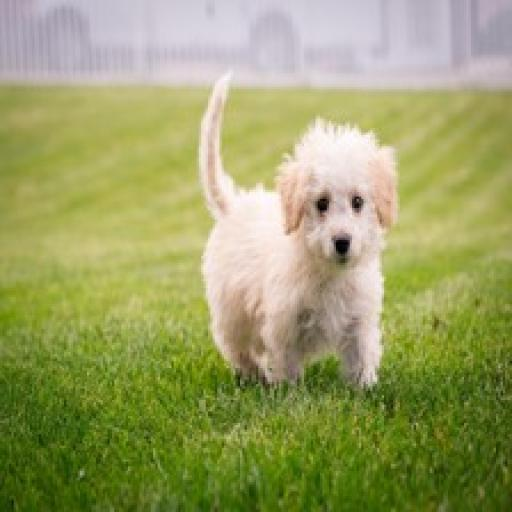dog: (168, 68, 422, 403)
